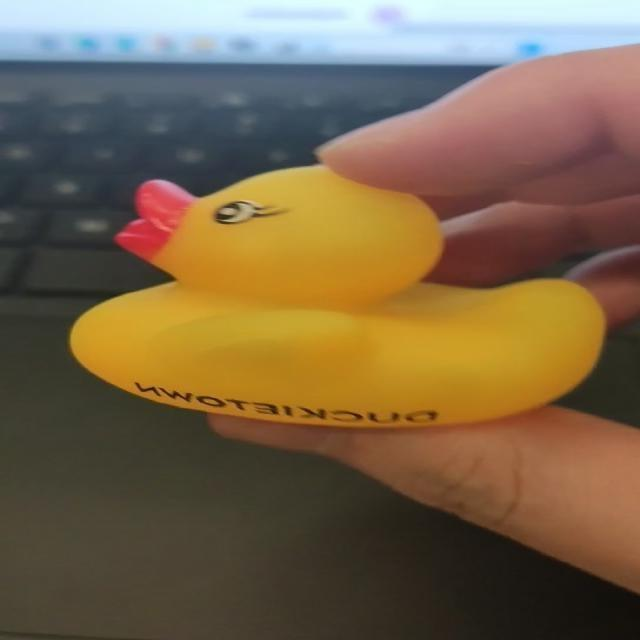rubber-duck: (69, 165, 603, 425)
